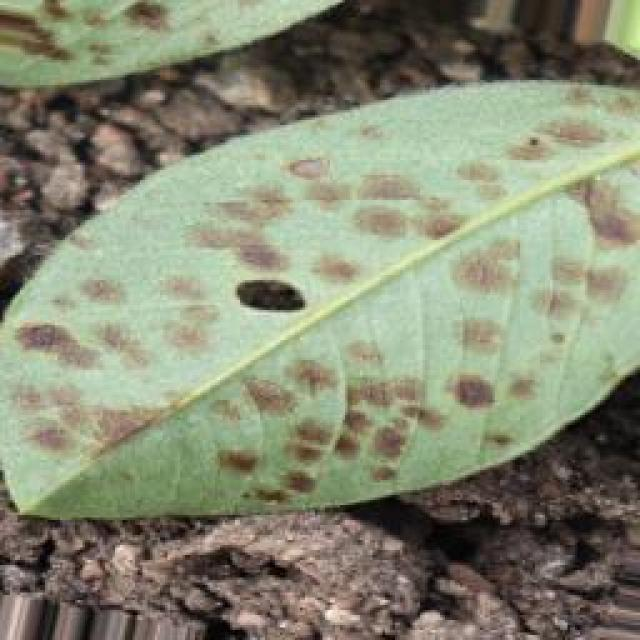Whitefly: (5, 0, 640, 527)
